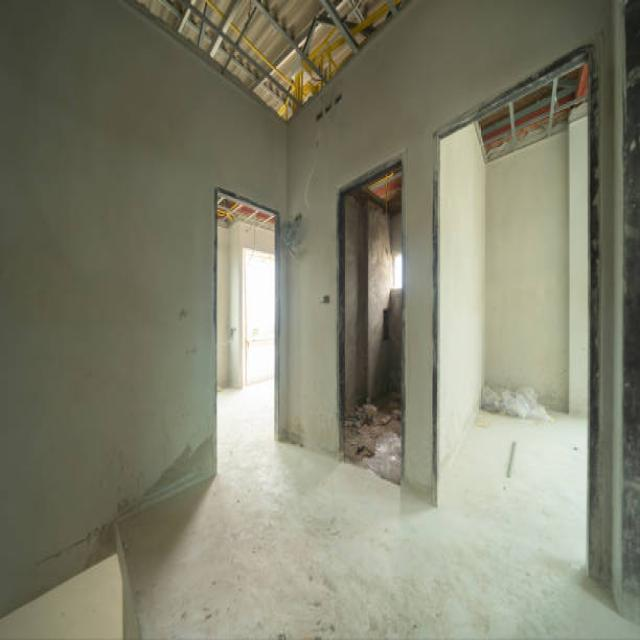floor: (112, 377, 640, 640)
wall: (284, 0, 619, 607), (486, 128, 569, 413), (437, 122, 488, 510), (366, 203, 399, 399), (569, 116, 588, 419), (344, 194, 367, 407), (229, 222, 244, 389), (217, 227, 230, 390), (241, 222, 275, 255), (392, 212, 402, 257)
